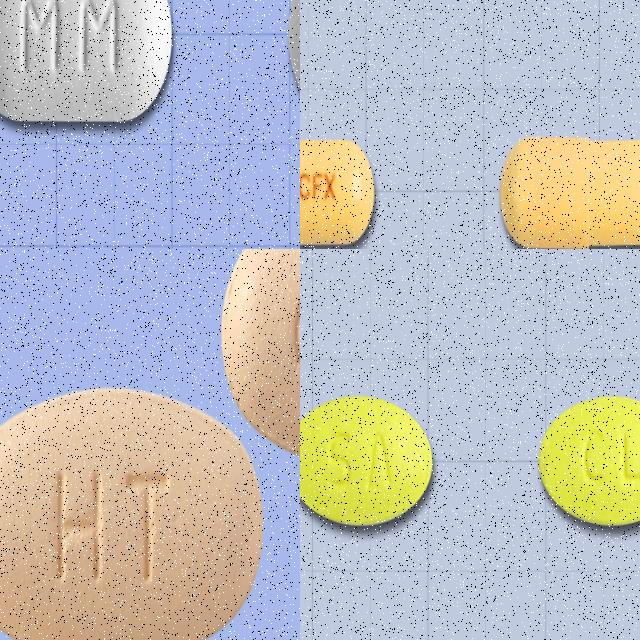A Progen Cefixime Cap: (499, 132, 640, 249), (300, 132, 376, 249)
Amoclan Duo: (0, 0, 174, 125)
CLARIUM: (300, 392, 436, 531), (537, 392, 640, 529)
Crafroxin Tab: (0, 386, 263, 640), (220, 249, 300, 472)
